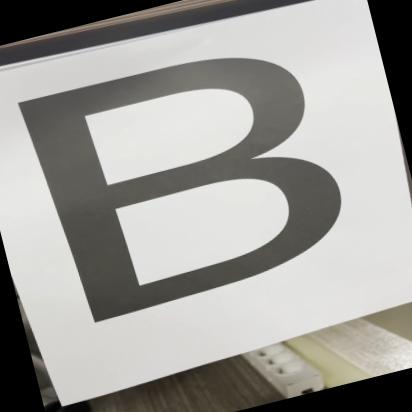seat: (0, 14, 379, 346)
